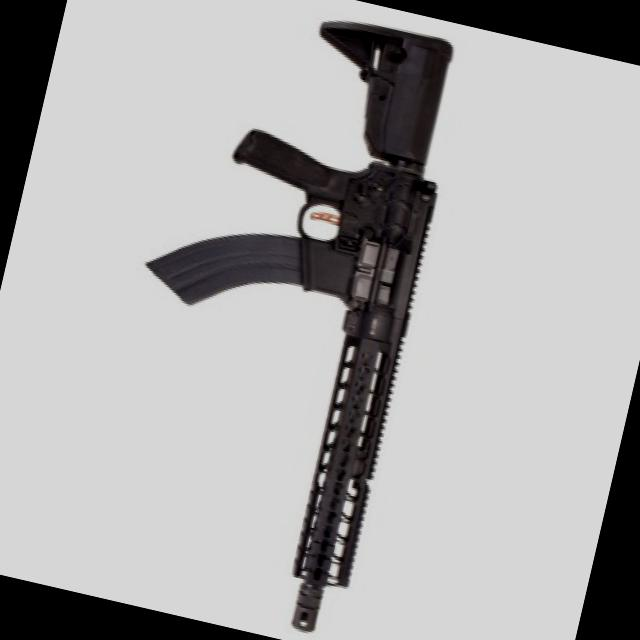long weapon: (70, 0, 479, 639)
